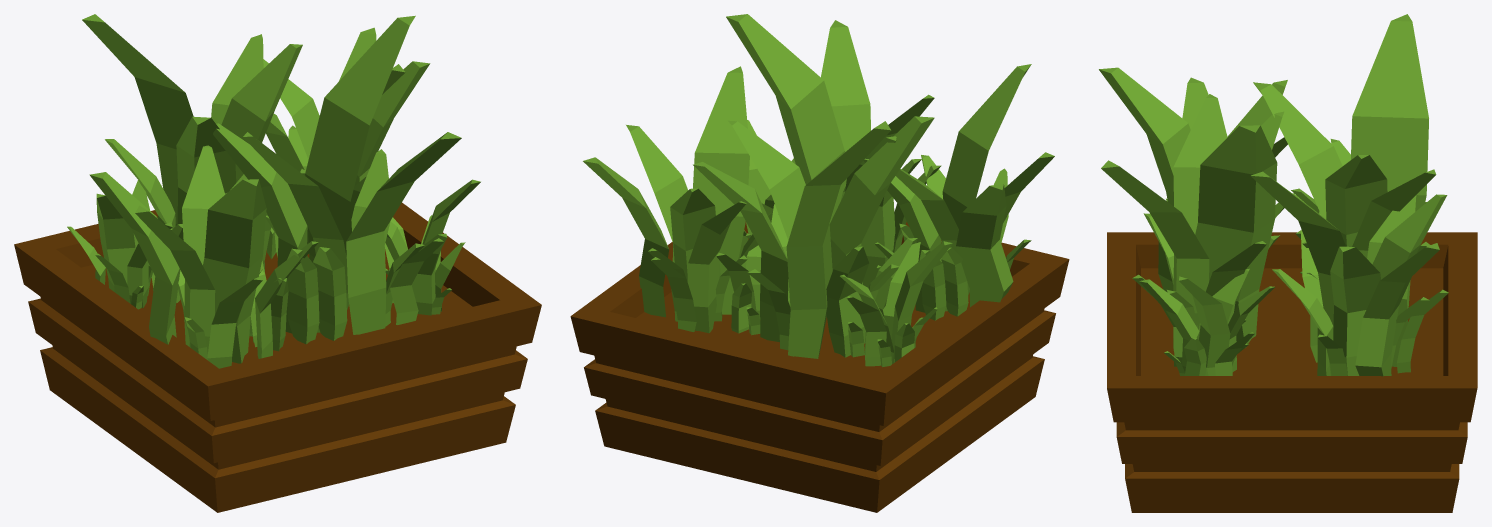
Rendered from Flower3.fbx.
3 renders of one model, left to right at view 1: azimuth 30°, elevation 25°; view 2: azimuth 150°, elevation 25°; view 3: azimuth 270°, elevation 25°, orthographic. The views are drawn at different scales.
Parts seen in each view (by area): view 1: Cube.028; view 2: Cube.028; view 3: Cube.028.
Boxes of the visible parts, x1=… form: Cube.028: x1=14, y1=14, x2=541, y2=512; Cube.028: x1=570, y1=14, x2=1069, y2=512; Cube.028: x1=1099, y1=14, x2=1477, y2=512.
Size of the model in its own units: 84.73 by 83.25 by 77.65.
